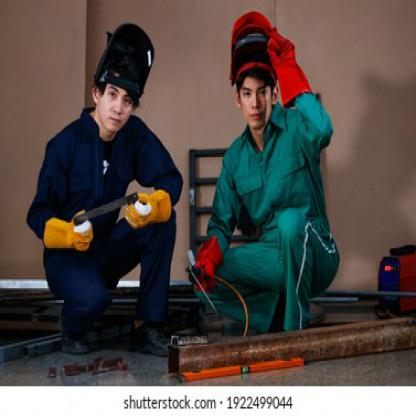with_gloves: (267, 27, 315, 108), (42, 210, 94, 251), (124, 189, 172, 229), (192, 236, 224, 294)
